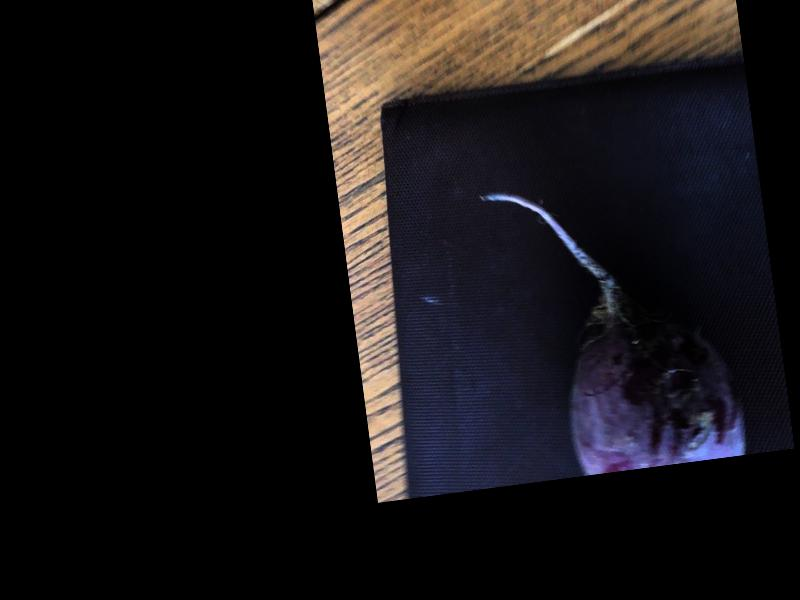Beet: (481, 164, 747, 482)
